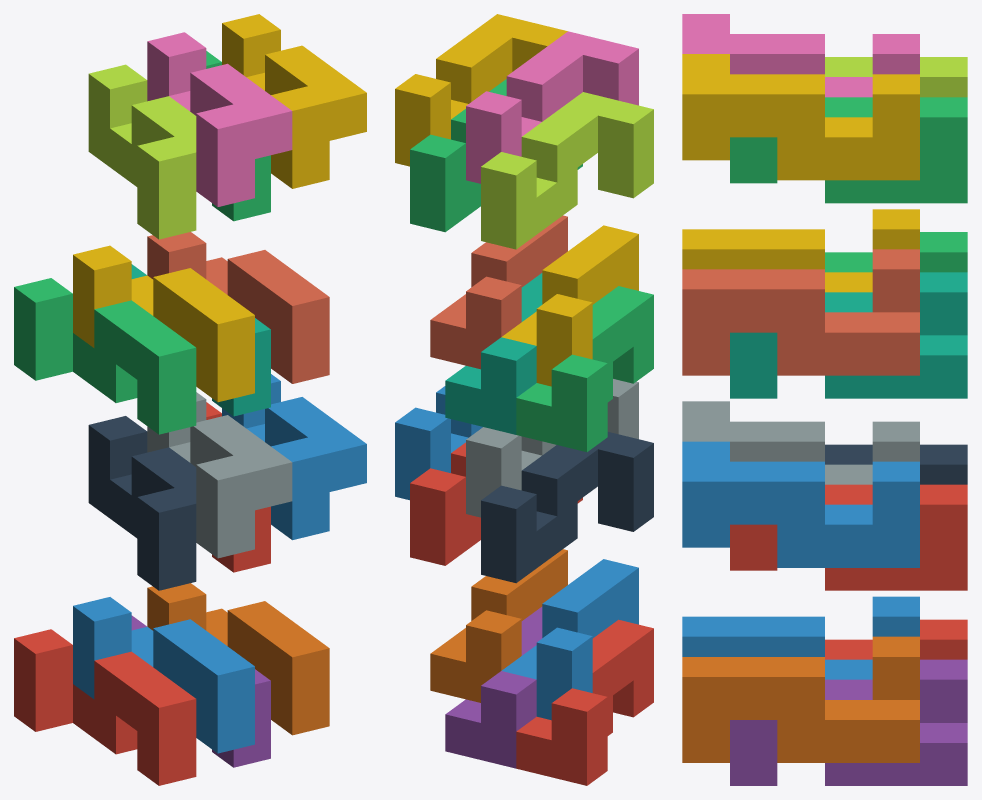
File: tiling.obj
3 renders of one model, left to right at view 1: azimuth 30°, elevation 25°; view 2: azimuth 150°, elevation 25°; view 3: azimuth 270°, elevation 25°, orthographic. The views are drawn at different scales.
Parts seen in each view (by area): view 1: copy_1_domain_3, copy_1_domain_1, copy_2_domain_4, copy_1_domain_2, copy_1_domain_4, copy_2_domain_1, copy_2_domain_3, copy_2_domain_8, copy_1_domain_6, copy_1_domain_8, copy_2_domain_2, copy_2_domain_6 (+4 smaller); view 2: copy_2_domain_3, copy_2_domain_1, copy_1_domain_1, copy_1_domain_3, copy_2_domain_4, copy_2_domain_8, copy_1_domain_2, copy_1_domain_4, copy_1_domain_8, copy_1_domain_6, copy_1_domain_5, copy_1_domain_7 (+4 smaller); view 3: copy_1_domain_8, copy_1_domain_6, copy_2_domain_8, copy_2_domain_6, copy_1_domain_7, copy_1_domain_5, copy_2_domain_7, copy_2_domain_5, copy_1_domain_2, copy_1_domain_4, copy_2_domain_2, copy_2_domain_4 (+4 smaller).
Boxes of the visible parts, box(x1,y1,x2,y2) form: copy_1_domain_3: box(14, 278, 196, 434); copy_1_domain_1: box(14, 629, 196, 785); copy_2_domain_4: box(147, 32, 292, 206); copy_1_domain_2: box(73, 597, 254, 753); copy_1_domain_4: box(73, 245, 254, 402); copy_2_domain_1: box(88, 416, 196, 590); copy_2_domain_3: box(88, 64, 196, 239); copy_2_domain_8: box(222, 14, 366, 188); copy_1_domain_6: box(147, 583, 329, 735); copy_1_domain_8: box(147, 232, 329, 383); copy_2_domain_2: box(147, 392, 292, 558); copy_2_domain_6: box(222, 374, 366, 540); copy_2_domain_3: box(481, 92, 653, 249); copy_2_domain_1: box(481, 432, 653, 583); copy_1_domain_1: box(516, 619, 653, 785); copy_1_domain_3: box(516, 286, 653, 451); copy_2_domain_4: box(466, 31, 638, 183); copy_2_domain_8: box(395, 14, 567, 166); copy_1_domain_2: box(501, 559, 638, 720); copy_1_domain_4: box(501, 225, 638, 386); copy_1_domain_8: box(430, 215, 567, 369); copy_1_domain_6: box(430, 549, 567, 702); copy_1_domain_5: box(445, 606, 542, 768); copy_1_domain_7: box(445, 273, 542, 434); copy_1_domain_8: box(682, 249, 919, 375); copy_1_domain_6: box(682, 636, 919, 762); copy_2_domain_8: box(682, 54, 919, 180); copy_2_domain_6: box(682, 441, 919, 567); copy_1_domain_7: box(730, 272, 967, 398); copy_1_domain_5: box(730, 659, 967, 785); copy_2_domain_7: box(730, 97, 967, 203); copy_2_domain_5: box(730, 484, 967, 590); copy_1_domain_2: box(682, 596, 919, 679); copy_1_domain_4: box(682, 209, 919, 292); copy_2_domain_2: box(682, 401, 919, 484); copy_2_domain_4: box(682, 14, 919, 97).
Bounding box in the file's own units: 6 × 17 × 6.
